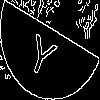Y: (25, 24, 61, 80)
